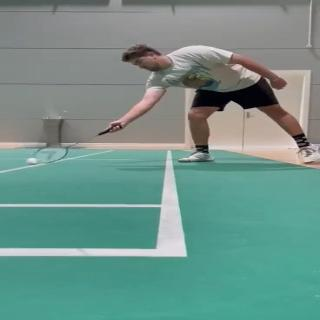Shuttle: (26, 157, 38, 165)
